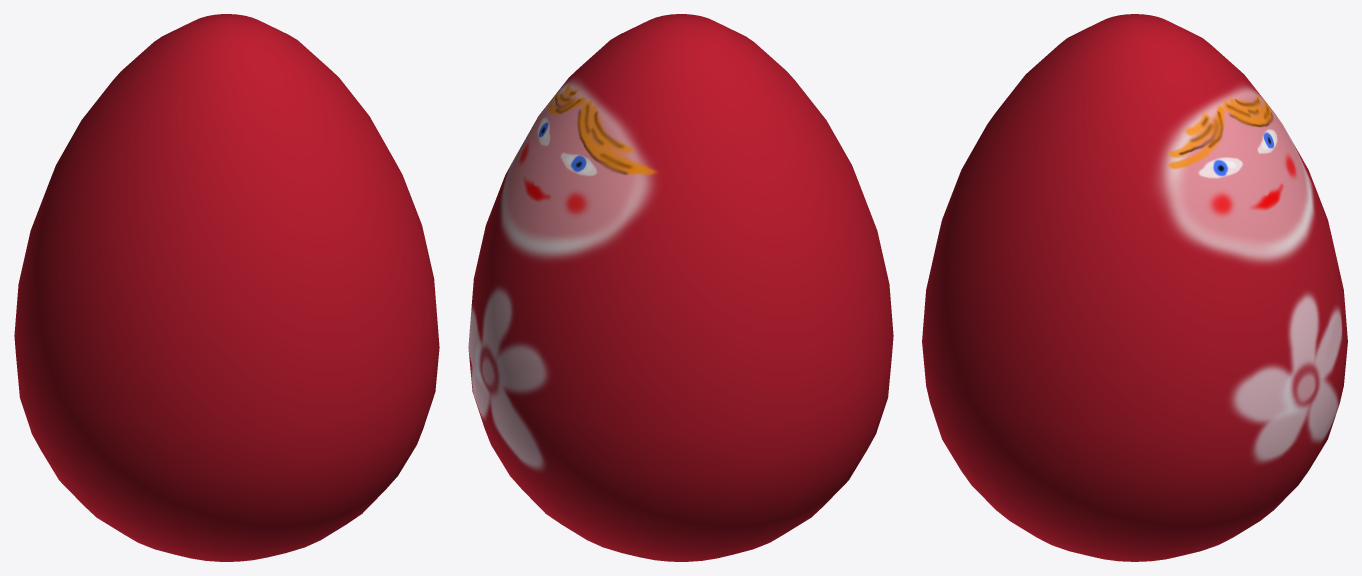
Rendered from egg.dae.
The picture shows the model from 3 angles, left to right: view 1: azimuth 30°, elevation 25°; view 2: azimuth 150°, elevation 25°; view 3: azimuth 270°, elevation 25°; orthographic projection.
Parts seen in each view (by area): view 1: Sphere; view 2: Sphere; view 3: Sphere.
Boxes of the visible parts, x1,y1,x2,y2 form: Sphere: [14, 14, 439, 561]; Sphere: [468, 14, 893, 561]; Sphere: [922, 14, 1347, 561].
Bounding box in the file's own units: 2 × 2 × 2.7.
1 material, 1 textured.
